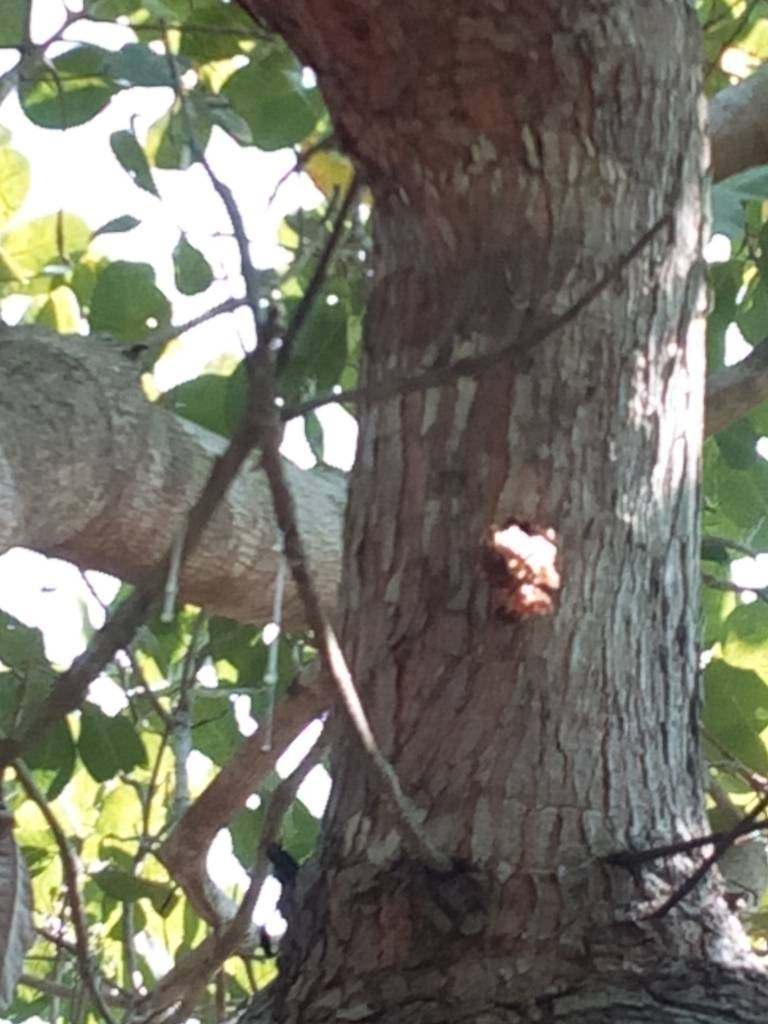Apate terebrans: (457, 507, 610, 657)
